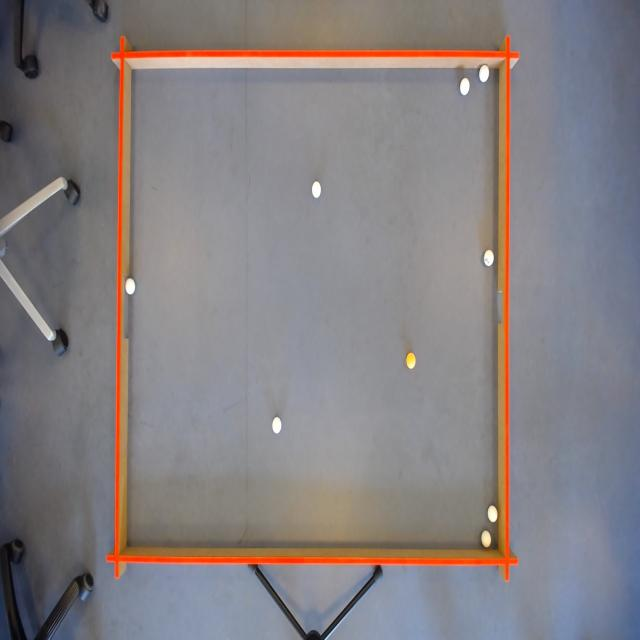orange_ball: (405, 352, 417, 371)
white_ball: (310, 178, 323, 201), (480, 528, 493, 550), (458, 74, 471, 96), (483, 247, 495, 269), (125, 276, 137, 298), (487, 503, 499, 524), (272, 415, 283, 436), (478, 63, 489, 84)
